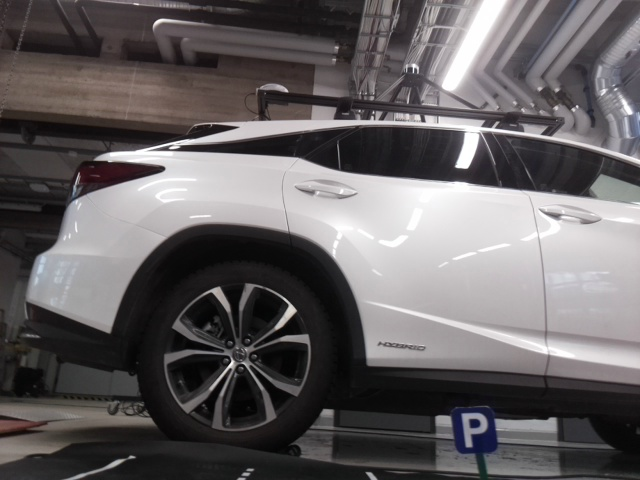Parking: (449, 406, 496, 452)
